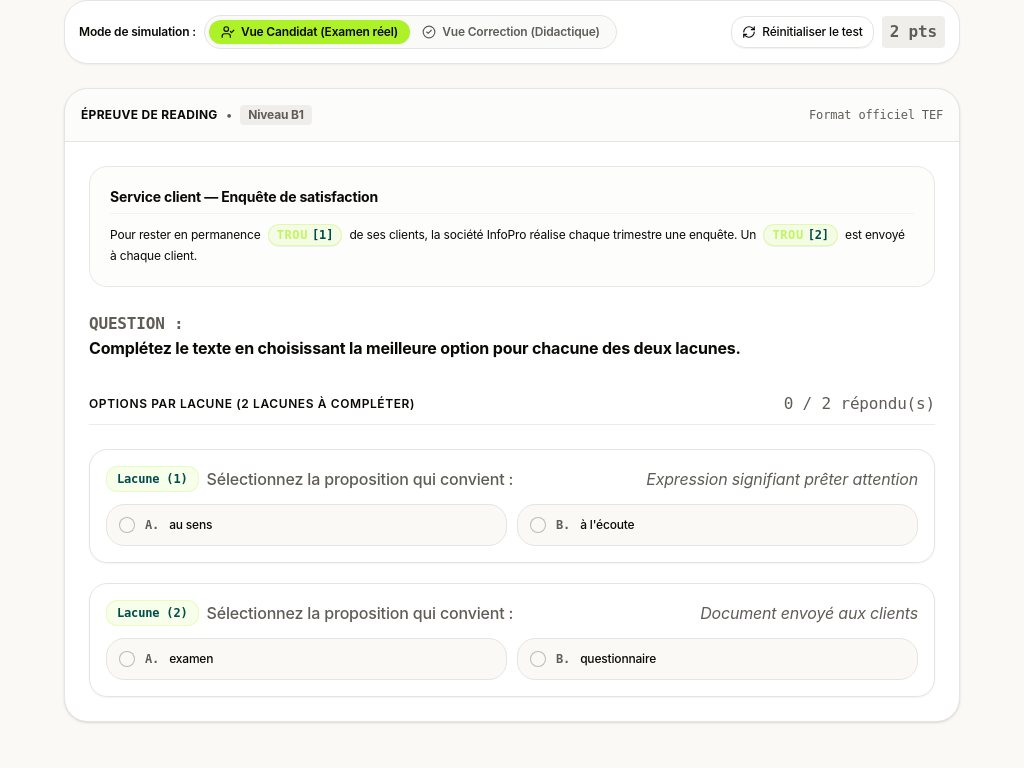
Test: Multi-Gap Question Components Suite › renders QuestionStudentSimulatorTab with authentic candidate mode and didactic correction mode
expect the button "Vue Candidat (Examen réel)" is shown: met, box 209,20 -> 410,44
expect the button "Vue Correction (Didactique)" is shown: met, box 410,20 -> 612,44
# Click option "à l'écoute" in Lacune 1
Click the text "à l'écoute" at [607, 524], box 580,516 -> 634,532
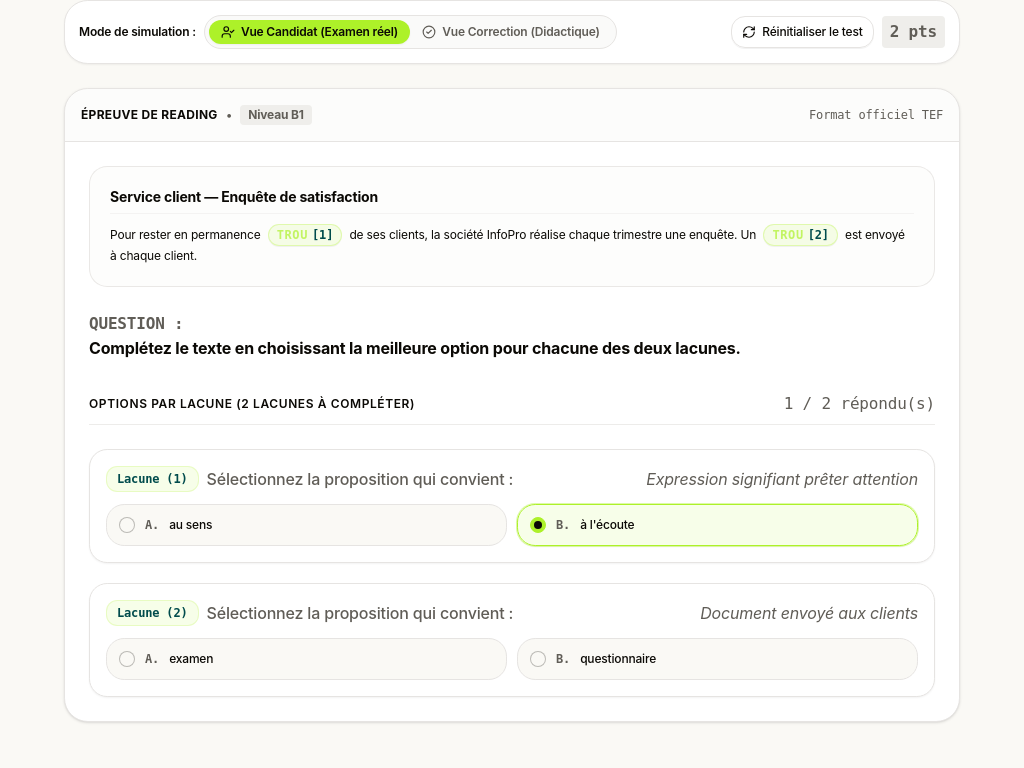
expect the text "1 / 2 répondu(s)" is shown: met, box 784,392 -> 935,416
# Switch to Correction mode
Click the button "Vue Correction (Didactique)" at [511, 32], box 410,20 -> 612,44
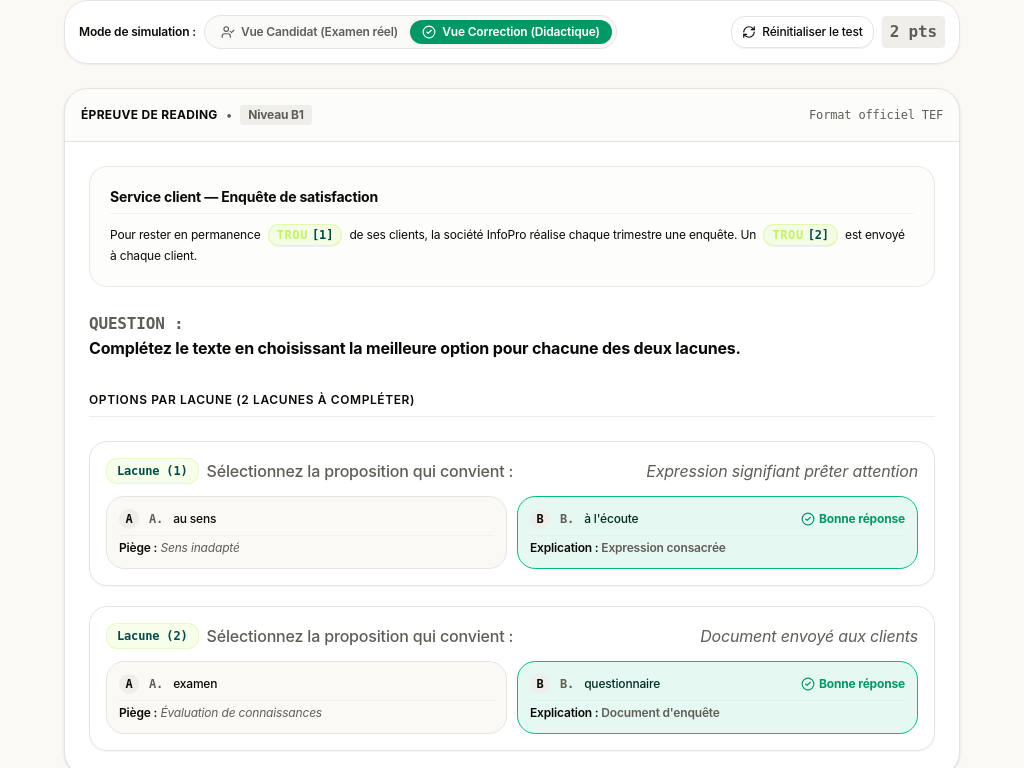
expect the text "Bonne réponse" is shown 2 times: met, box 801,510 -> 905,526; 801,676 -> 905,692
expect the text "Explication : Expression consacrée" is shown: met, box 530,540 -> 726,554
